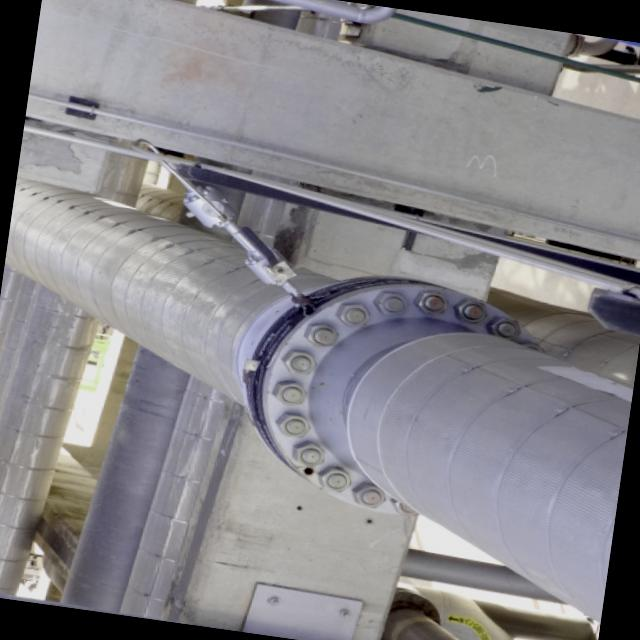gas: (5, 171, 633, 627)
